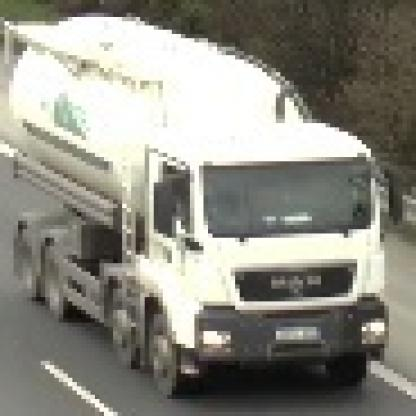truck: (1, 5, 385, 395)
